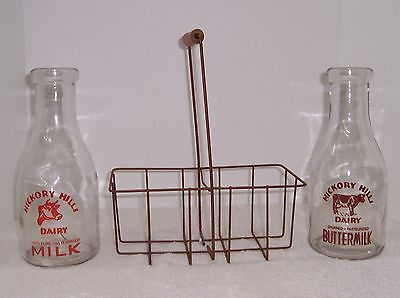bottle: (13, 65, 104, 268), (306, 68, 389, 263)
